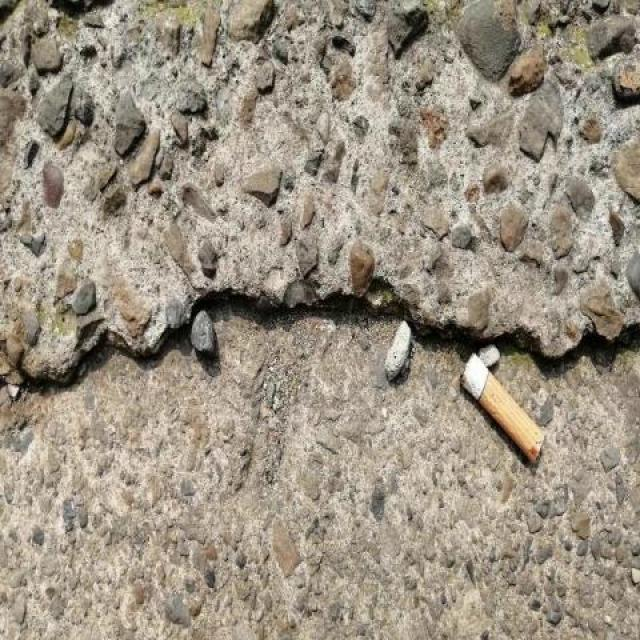non-organic waste: (454, 347, 550, 472)
